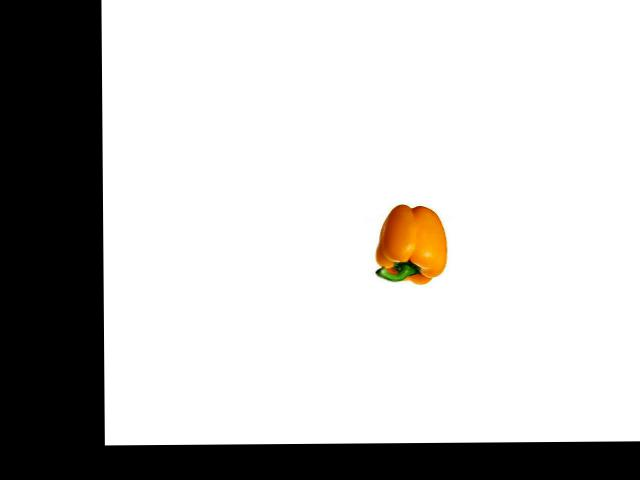bell_pepper: (367, 201, 453, 291)
